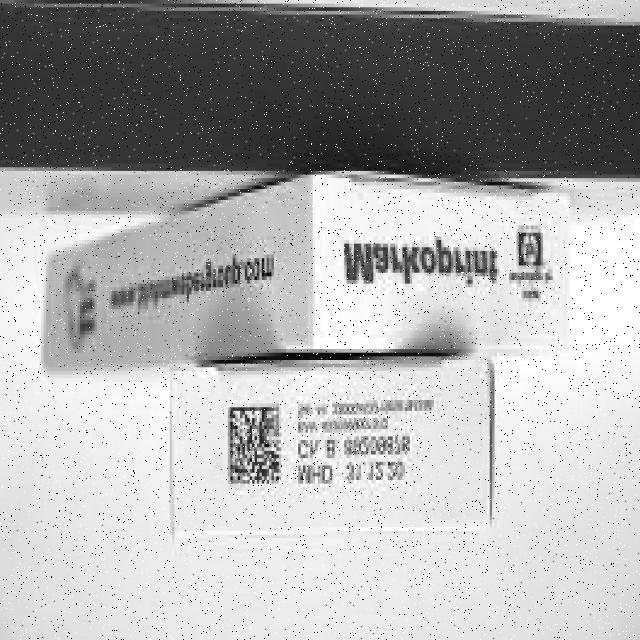datamatrix: (223, 400, 284, 491)
